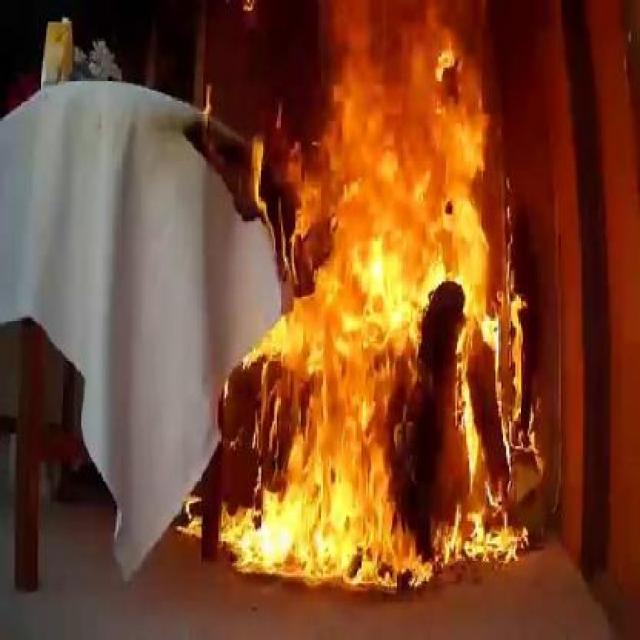fire: (258, 128, 550, 587)
smoke: (298, 0, 496, 72)
